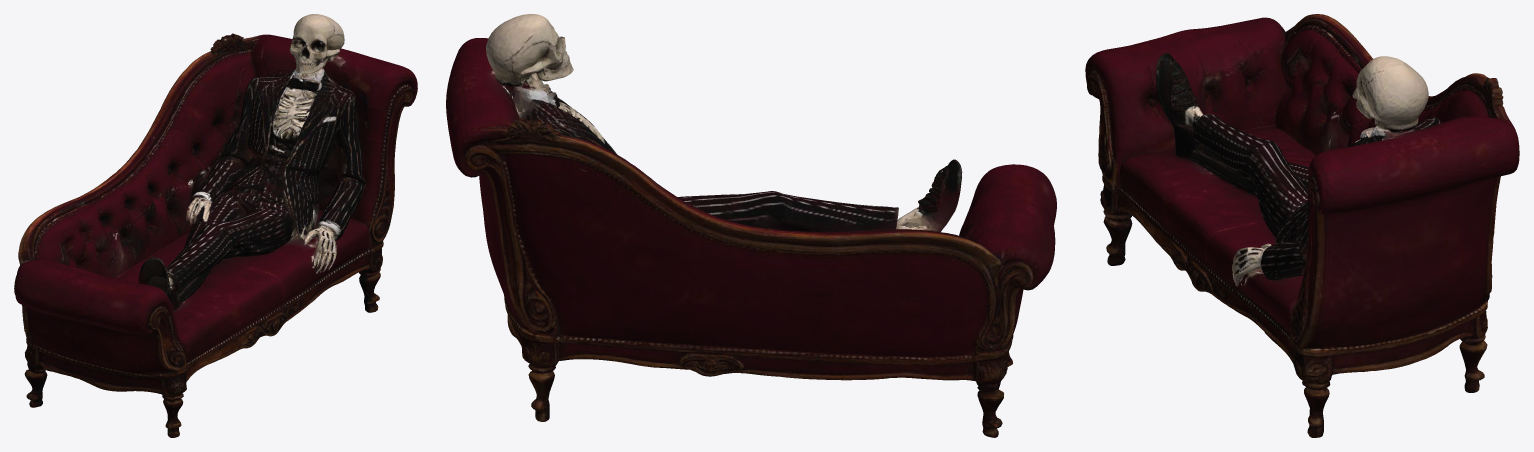
The model's file is 03_Chaise_Lounge_Client.glb.
3 renders of one model, left to right at view 1: azimuth 30°, elevation 25°; view 2: azimuth 150°, elevation 25°; view 3: azimuth 270°, elevation 25°, orthographic. The views are drawn at different scales.
Parts seen in each view (by area): view 1: world; view 2: world; view 3: world.
Part boxes in pixels (x1,y1,x2,y2): world: [14, 14, 417, 437]; world: [446, 14, 1056, 437]; world: [1085, 14, 1519, 437].
Size of the model in its own units: 1.99 by 1.24 by 1.37.
Materials: 1 (1 with a texture image).
